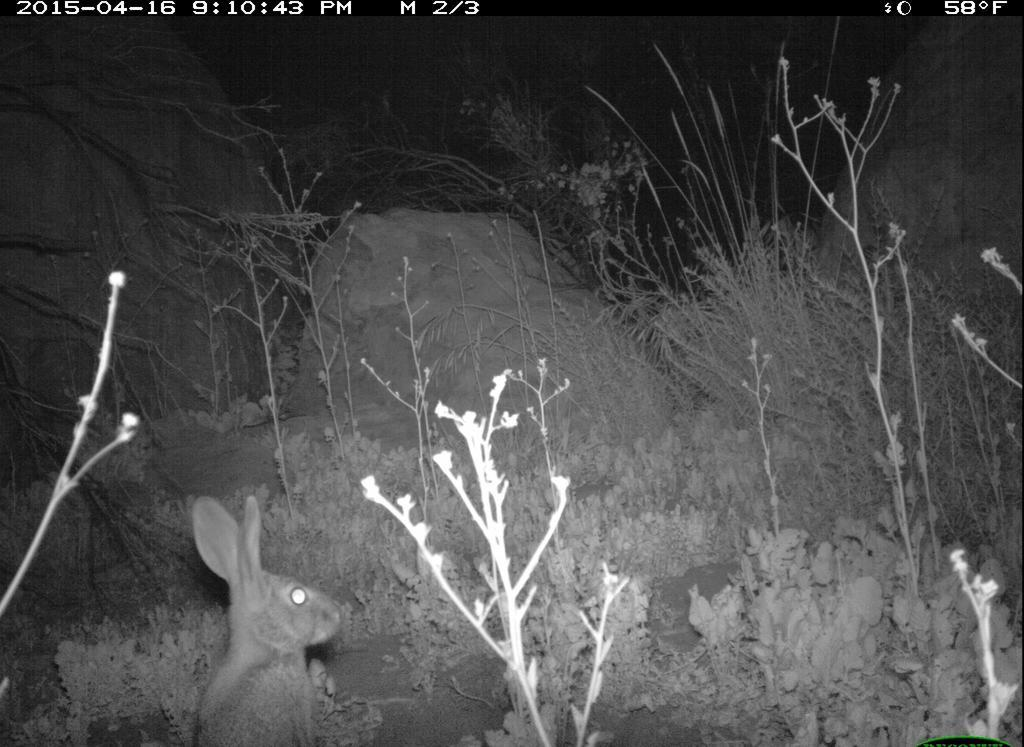rabbit: (160, 482, 351, 747)
